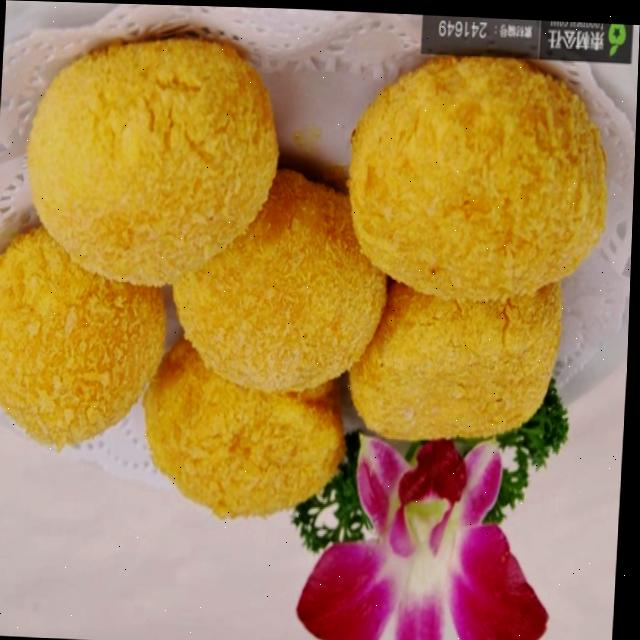炸货点心: (0, 0, 622, 580)
蛋糕甜品: (0, 0, 622, 580)
